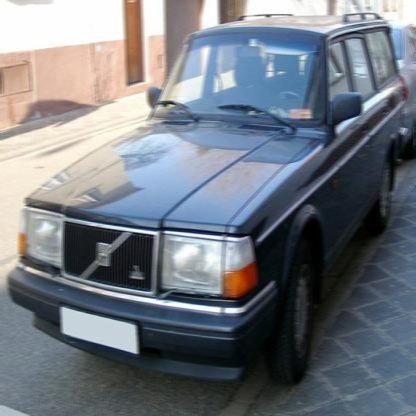Vehicle: (6, 9, 409, 386)
